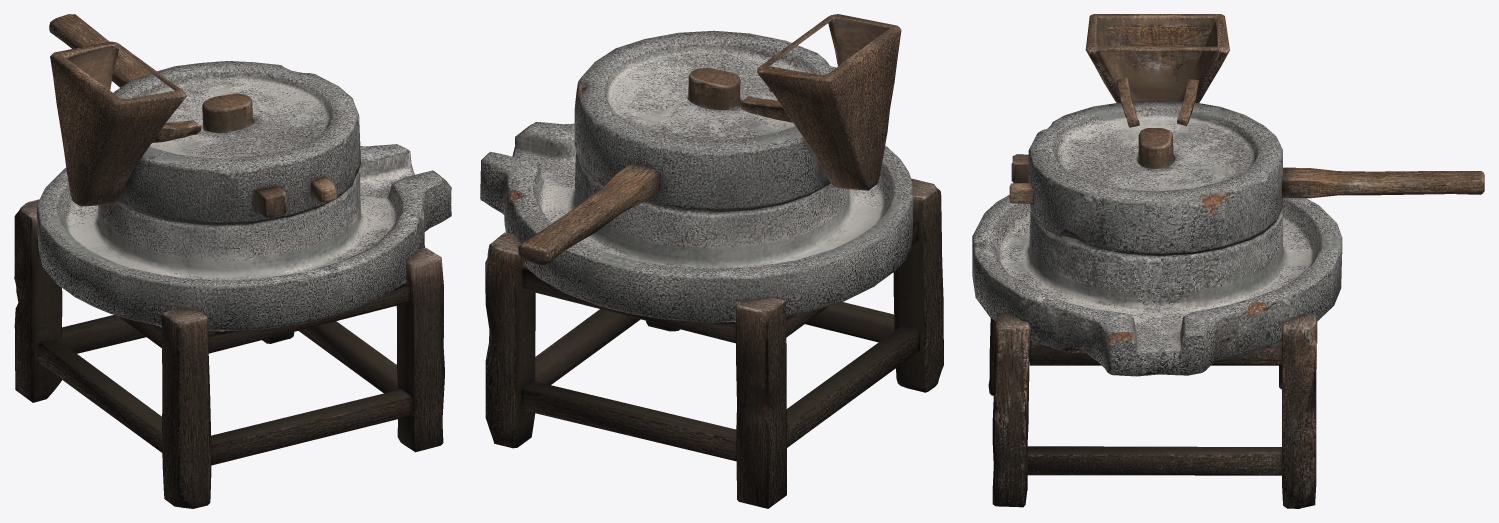
File: tripo_convert_007c9c23-3294-4bea-89f0-145d595761c7.fbx
The picture shows the model from 3 angles, left to right: view 1: azimuth 30°, elevation 25°; view 2: azimuth 150°, elevation 25°; view 3: azimuth 270°, elevation 25°; orthographic projection. The views are drawn at different scales.
Parts seen in each view (by area): view 1: tripo_node_007c9c23; view 2: tripo_node_007c9c23; view 3: tripo_node_007c9c23.
Part boxes in pixels (bbox=[...]): tripo_node_007c9c23: bbox=[14, 14, 451, 508]; tripo_node_007c9c23: bbox=[480, 14, 943, 508]; tripo_node_007c9c23: bbox=[972, 14, 1484, 508].
Bounding box in the file's own units: 0.7949 × 0.7832 × 0.998.
Materials: 1 (1 with a texture image).
